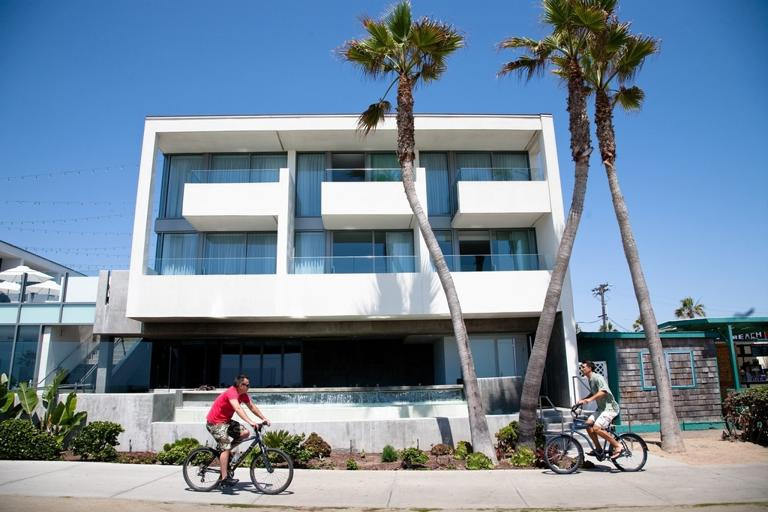non-vehicle: (177, 416, 294, 495), (542, 402, 649, 476)
